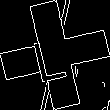L_N: (34, 27, 76, 83)
